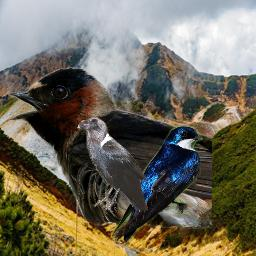Crow: (77, 116, 148, 210)
Swallow: (6, 67, 212, 229), (111, 126, 203, 243)
